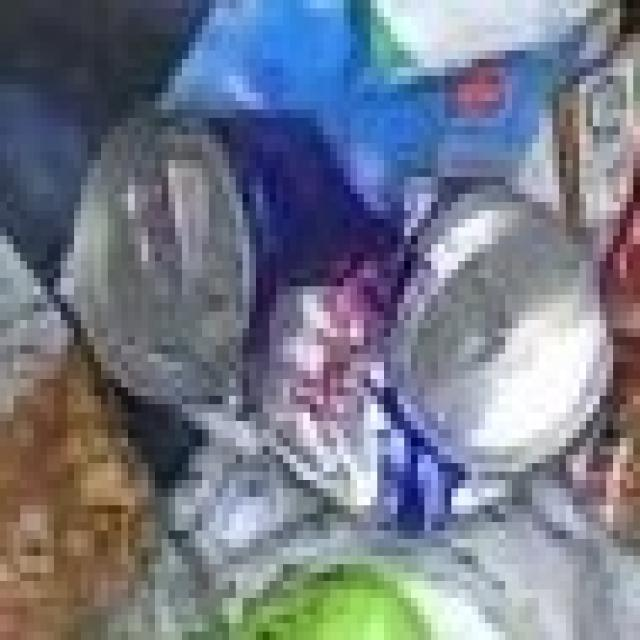litter: (40, 83, 640, 553)
